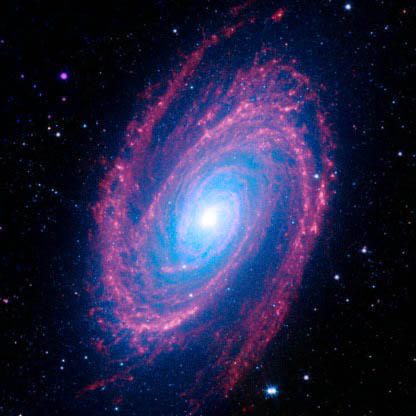Messier 81: (59, 13, 346, 402)
